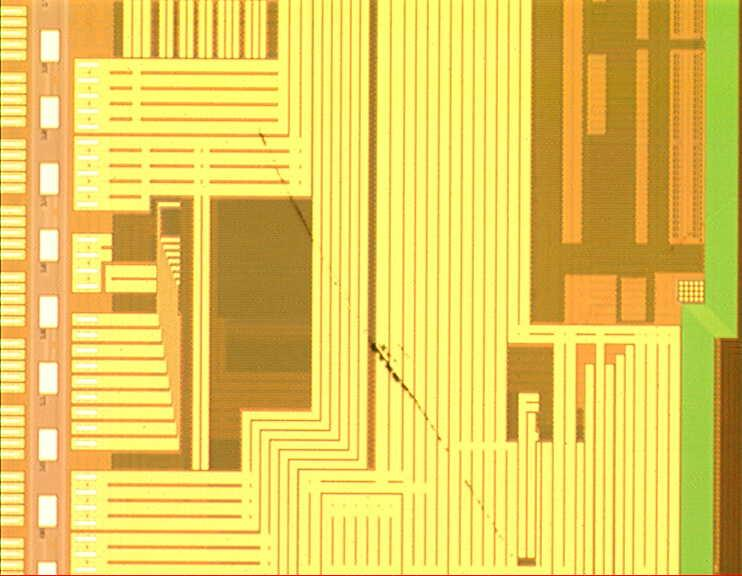SCRATCH: (249, 119, 525, 567)
